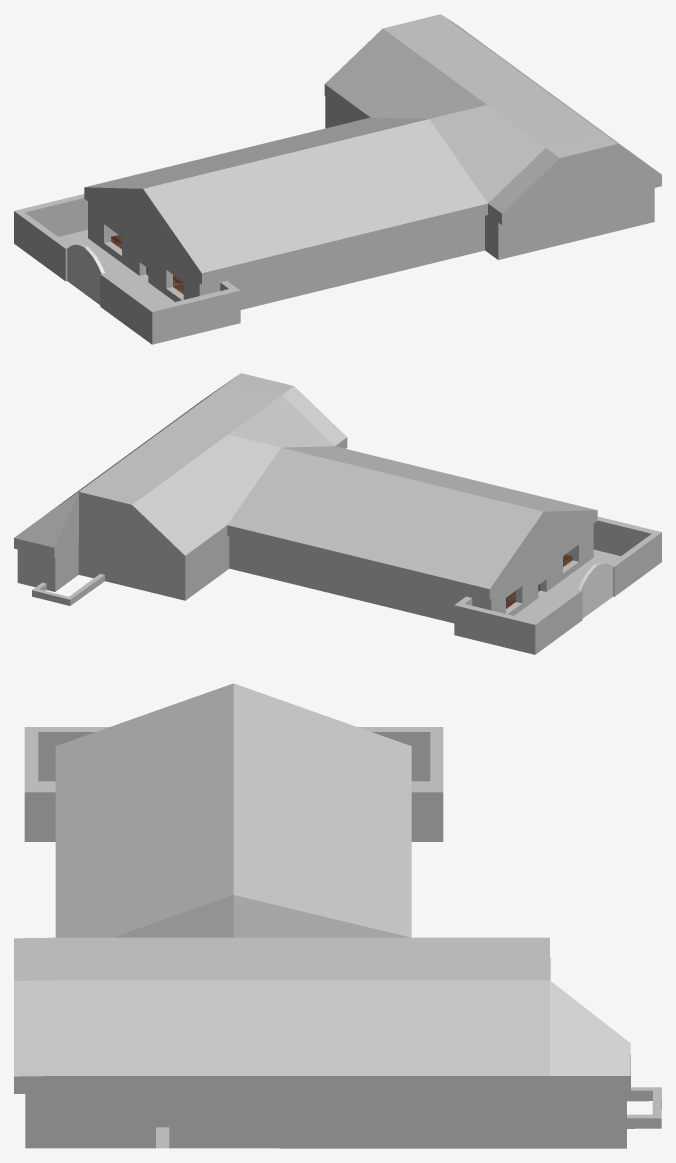
The model's file is Orfanato (1).fbx.
3 renders of one model, top to bottom at view 1: azimuth 30°, elevation 25°; view 2: azimuth 150°, elevation 25°; view 3: azimuth 270°, elevation 25°, orthographic. The views are drawn at different scales.
Parts seen in each view (by area): view 1: Plane, Plane.001, Plane.006, Plane.003, Plane.007; view 2: Plane, Plane.001, Plane.006, Plane.011, Plane.003, Plane.007, Plane.010; view 3: Plane, Plane.001, Plane.006, Plane.011, Plane.010.
Part boxes in pixels (left/top/right/bottom): Plane: left=84, top=14, right=661, bottom=284; Plane.001: left=88, top=96, right=654, bottom=309; Plane.006: left=14, top=194, right=240, bottom=344; Plane.003: left=59, top=230, right=174, bottom=306; Plane.007: left=67, top=243, right=104, bottom=304; Plane: left=14, top=373, right=597, bottom=599; Plane.001: left=78, top=524, right=593, bottom=623; Plane.006: left=454, top=516, right=661, bottom=654; Plane.011: left=17, top=541, right=78, bottom=591; Plane.003: left=514, top=549, right=620, bottom=620; Plane.007: left=578, top=562, right=613, bottom=618; Plane.010: left=32, top=573, right=104, bottom=605; Plane: left=14, top=683, right=630, bottom=1093; Plane.001: left=25, top=1093, right=548, bottom=1148; Plane.006: left=24, top=727, right=443, bottom=841; Plane.011: left=548, top=1093, right=626, bottom=1148; Plane.010: left=627, top=1087, right=661, bottom=1128.
Size of the model in its own units: 7448 by 1279 by 5448.
